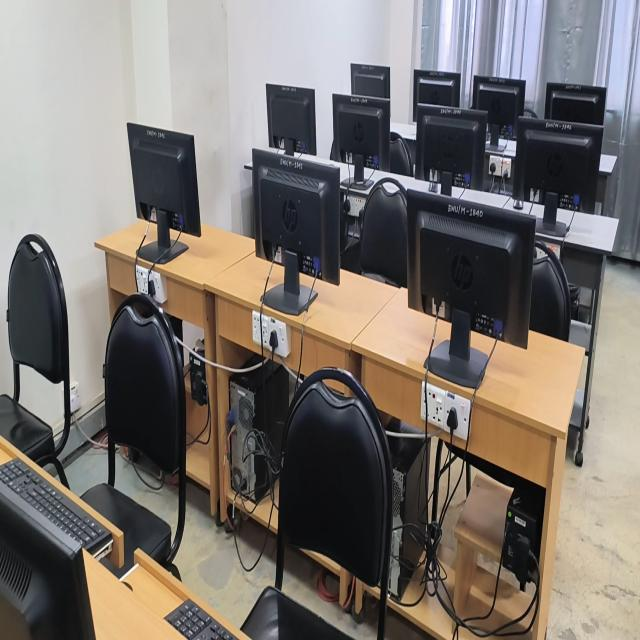Chair: (240, 367, 393, 639), (81, 294, 186, 580), (0, 235, 71, 488), (358, 178, 407, 287), (529, 236, 578, 341), (389, 132, 413, 176), (523, 108, 537, 117)
Cpu: (226, 360, 297, 504), (383, 418, 430, 600)
Keyboard: (0, 459, 112, 558), (165, 599, 238, 639)
Monitor: (406, 190, 535, 415), (253, 149, 341, 316), (127, 124, 200, 271), (511, 119, 603, 234), (416, 105, 487, 189), (331, 94, 390, 183), (472, 76, 524, 145), (266, 84, 316, 155), (471, 75, 525, 137), (545, 82, 606, 125), (413, 69, 460, 121), (351, 63, 390, 97)
